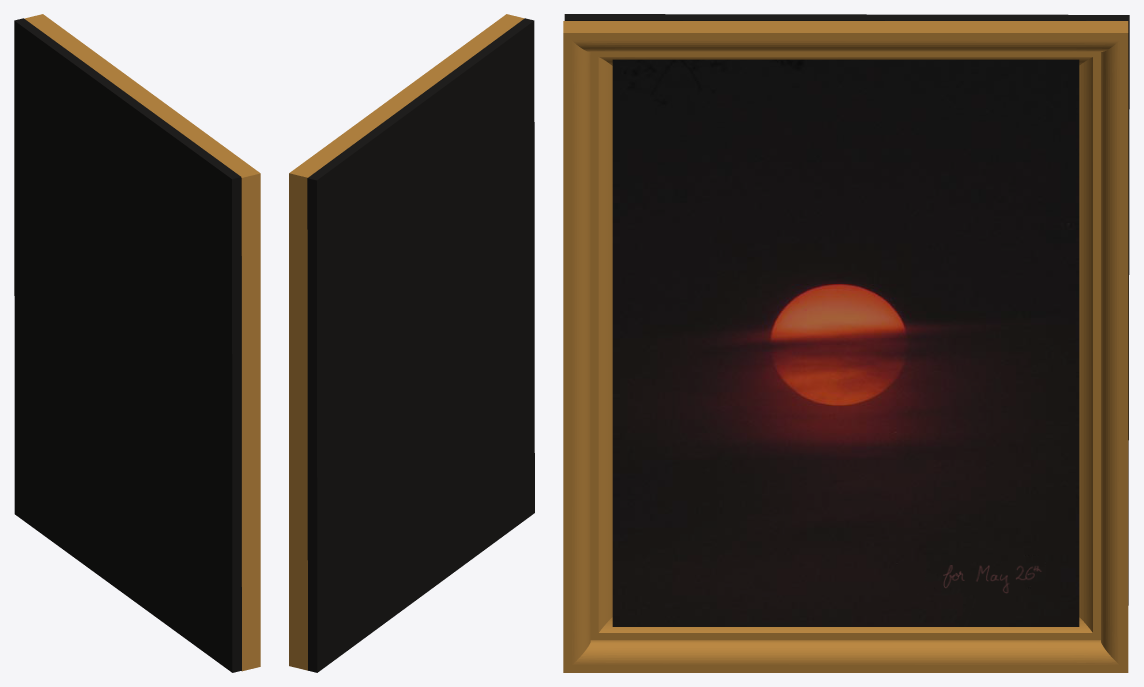
File: sunframe3.glb
3 views of the same model, side by side, from view 1: azimuth 30°, elevation 25°; view 2: azimuth 150°, elevation 25°; view 3: azimuth 270°, elevation 25° (orthographic). The views are drawn at different scales.
Visible parts, largest first — view 1: frame.001_3, back panel.001_2; view 2: frame.001_3, back panel.001_2; view 3: frame.001_3, back panel.001_2.
Part boxes in pixels (<box>): frame.001_3: <box>14,18,241,672</box>; back panel.001_2: <box>24,14,260,671</box>; frame.001_3: <box>307,18,534,672</box>; back panel.001_2: <box>289,14,524,670</box>; frame.001_3: <box>564,14,1129,626</box>; back panel.001_2: <box>563,21,1128,672</box>.
Bounding box in the file's own units: 0.75 × 12.52 × 10.02.
3 materials, 1 textured.
